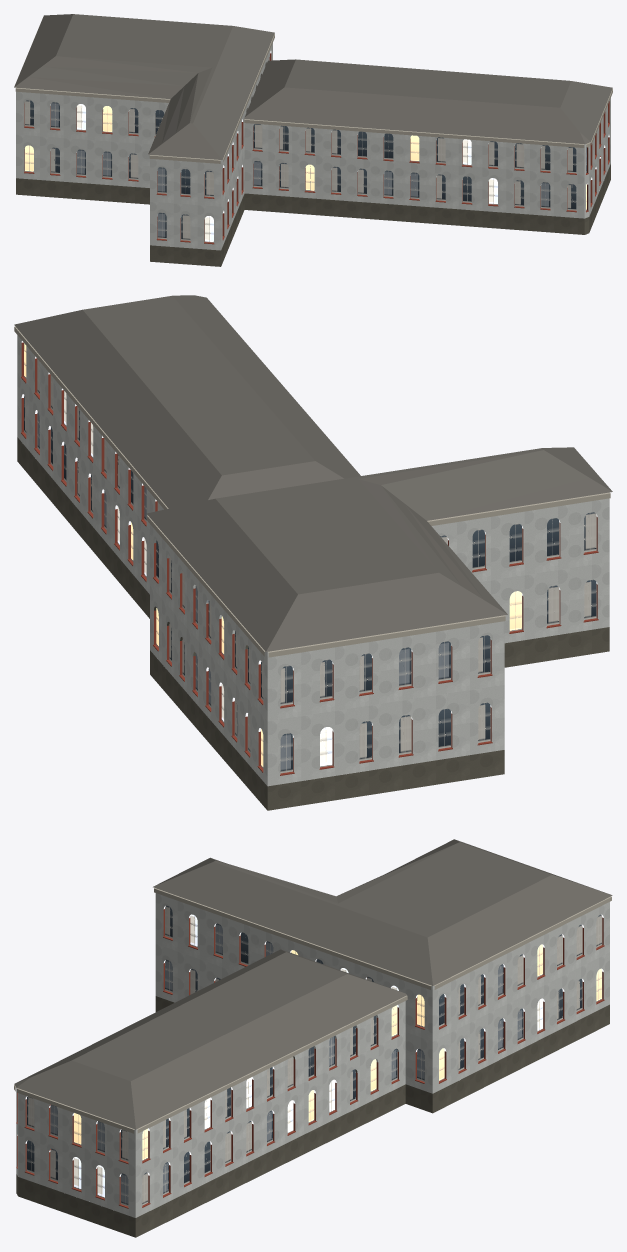
File: kw_letten.glb
3 views of the same model, one above another, from view 1: azimuth 30°, elevation 25°; view 2: azimuth 150°, elevation 25°; view 3: azimuth 270°, elevation 25° (orthographic). The views are drawn at different scales.
Parts seen in each view (by area): view 1: kw_letten; view 2: kw_letten; view 3: kw_letten.
Boxes of the visible parts, x1,y1,x2,y2 form: kw_letten: (14,14,612,266); kw_letten: (14,295,612,810); kw_letten: (14,839,612,1237).
Size of the model in its own units: 89.09 by 23.19 by 83.14.
3 materials, 3 textured.
